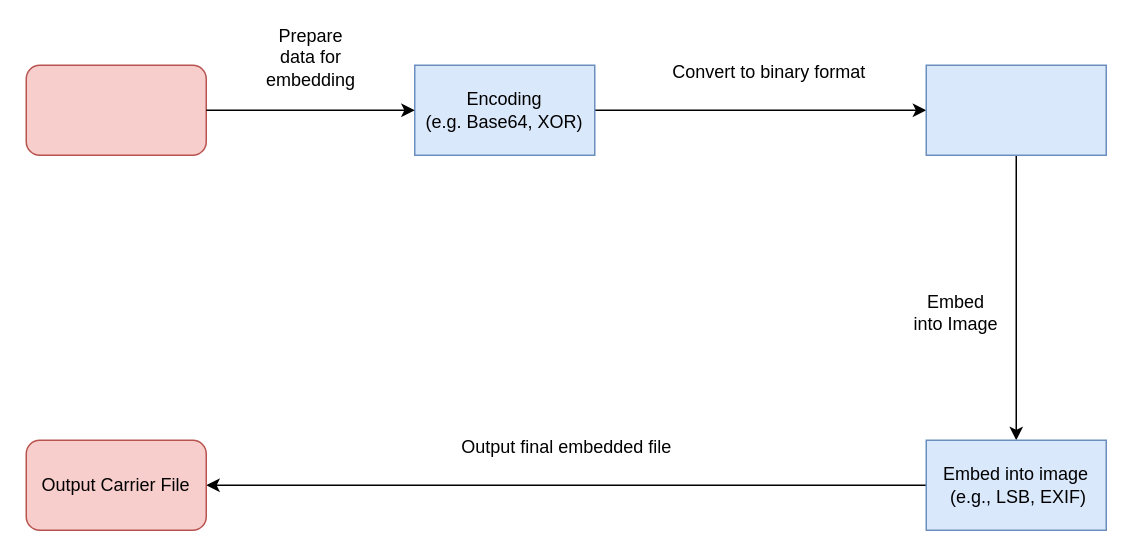
This 1133x557 diagram has some shape labels left out. Each missing label, with the centre of its shape:
"Bitstream Conversion" belongs at [1015,109].
"Original Payload" belongs at [115,109].
